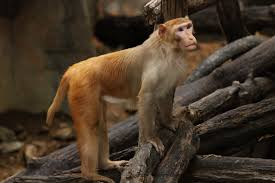monkey: (33, 12, 246, 159)
